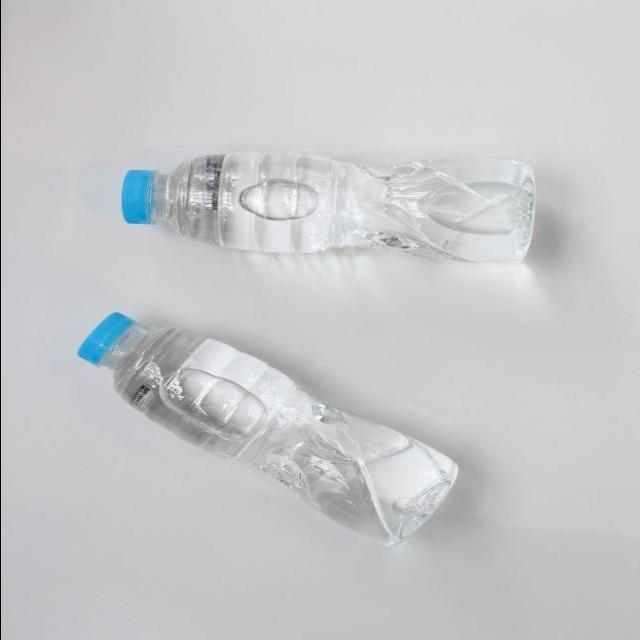cap: (118, 168, 155, 225)
not-crumbled: (110, 148, 545, 272)
